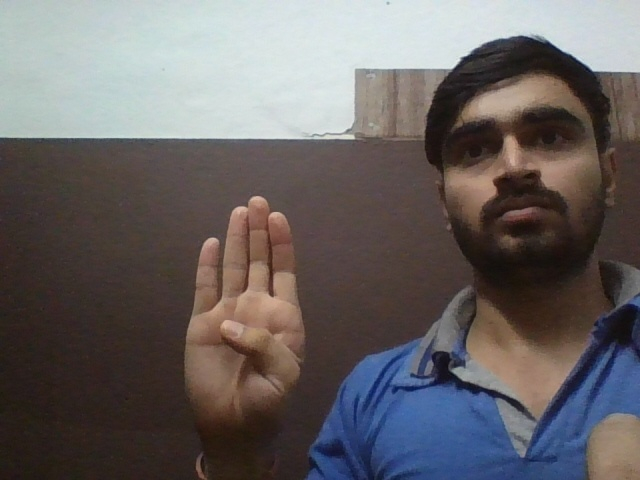B: (182, 190, 311, 443)
